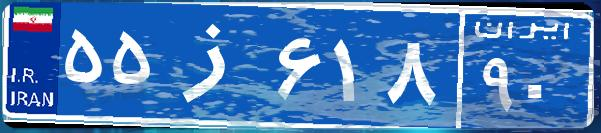0: (525, 38, 570, 115)
1: (330, 28, 385, 110)
5: (57, 26, 110, 107), (110, 28, 158, 105)
6: (273, 28, 330, 110)
8: (385, 28, 445, 110)
9: (475, 38, 525, 113)
ز: (158, 15, 273, 115)
